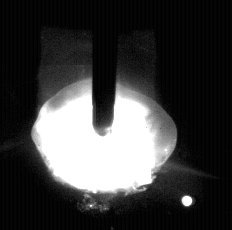arame: (93, 0, 117, 136)
poca: (31, 0, 178, 230)
